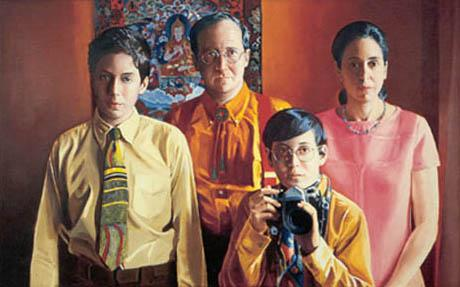person: (28, 25, 208, 287), (164, 14, 309, 273), (310, 21, 438, 287), (219, 110, 376, 287)
